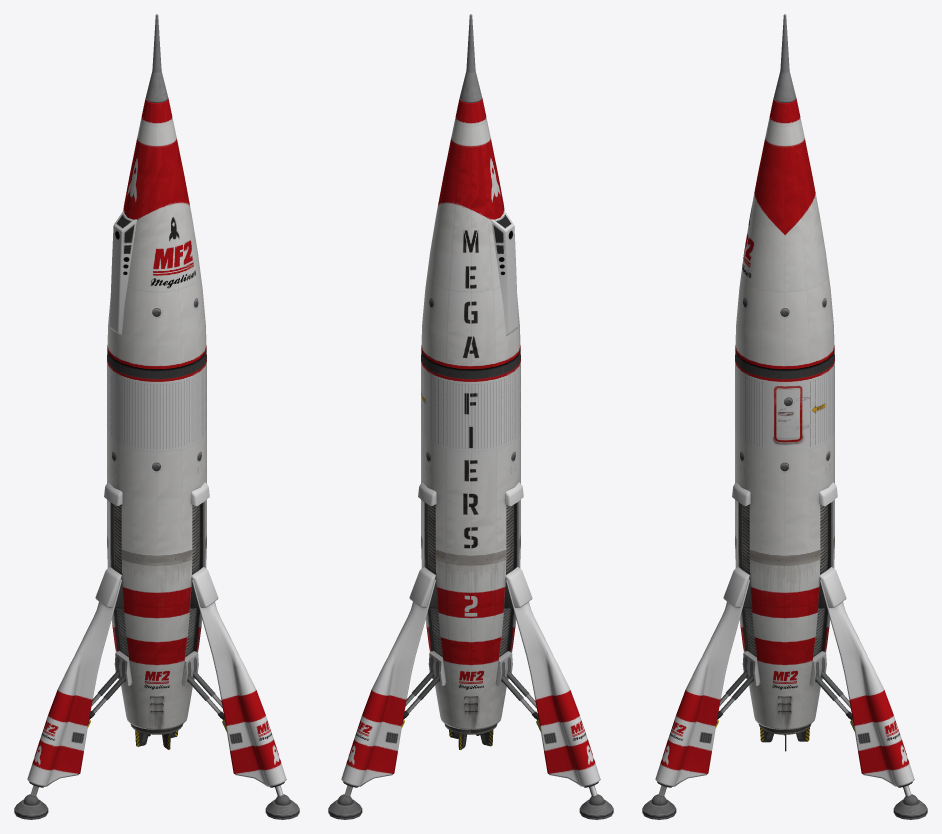
File: MegaFlierV2.fbx
3 renders of one model, left to right at view 1: azimuth 30°, elevation 25°; view 2: azimuth 150°, elevation 25°; view 3: azimuth 270°, elevation 25°, orthographic.
Visible parts, largest first — view 1: megaliner; view 2: megaliner; view 3: megaliner.
Boxes of the visible parts, <box> form: megaliner: <box>14,14,299,819</box>; megaliner: <box>328,14,613,819</box>; megaliner: <box>642,14,927,819</box>.
Size of the model in its own units: 730 by 2459 by 828.
Materials: 1 (1 with a texture image).
